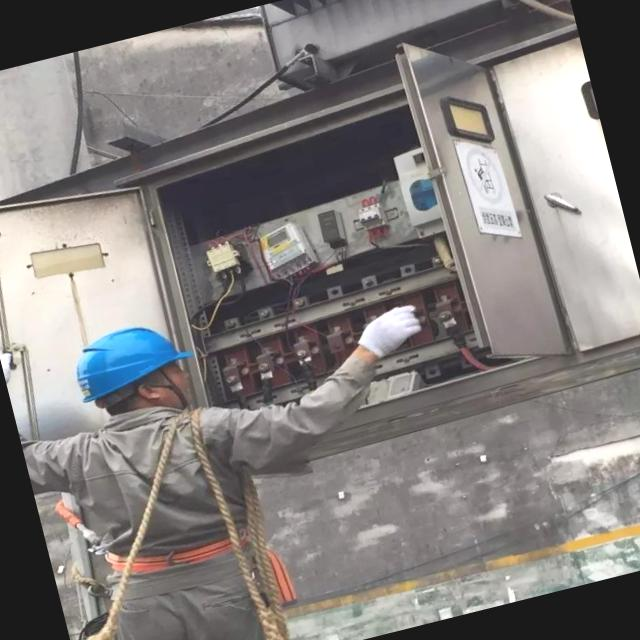helmet: (61, 313, 202, 416)
no-vest: (32, 372, 270, 596)
